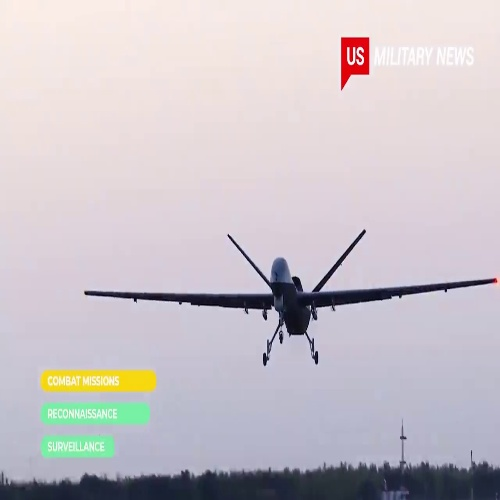uav750: (81, 228, 496, 367)
